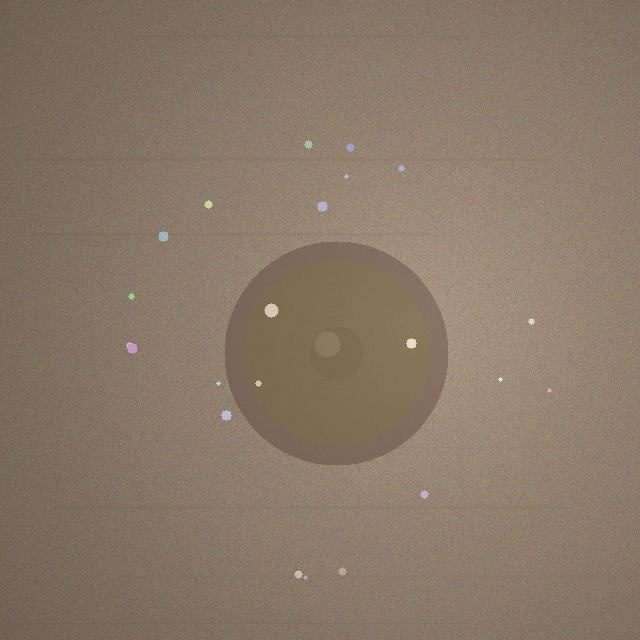overburn: (224, 241, 448, 465)
